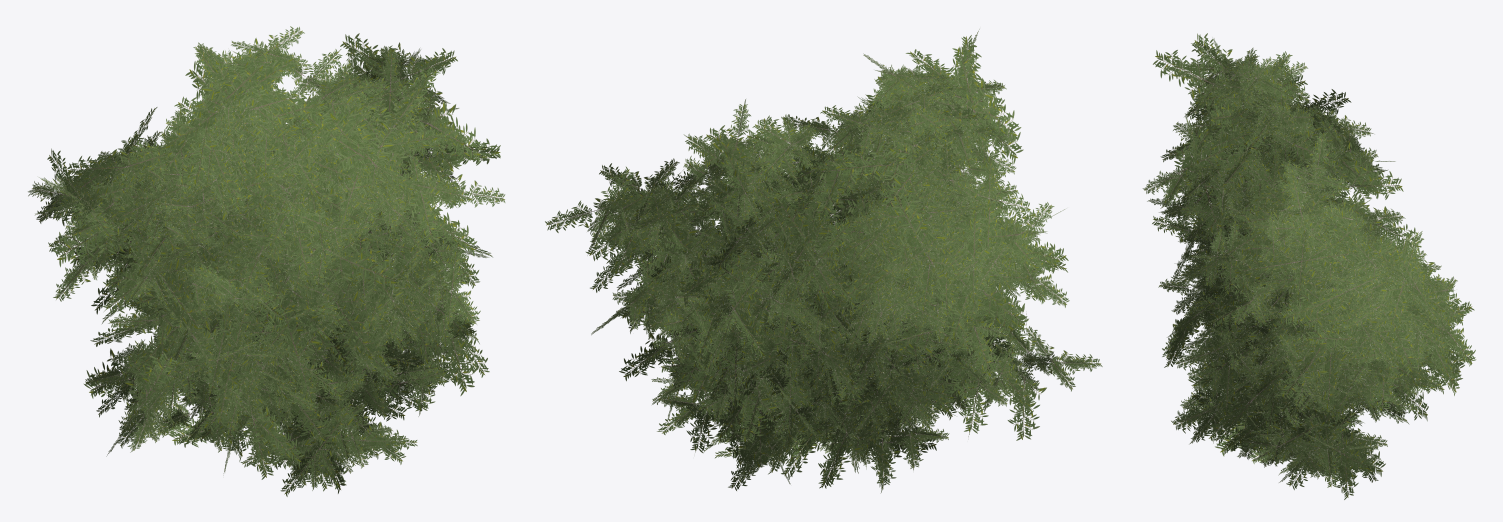
File: willow_leaf.glb
3 renders of one model, left to right at view 1: azimuth 30°, elevation 25°; view 2: azimuth 150°, elevation 25°; view 3: azimuth 270°, elevation 25°, orthographic. The views are drawn at different scales.
Visible parts, largest first — view 1: willow_a_l2, willow_a, willow_a_l1, willow_b_l1, willow_b, willow_b_l2; view 2: willow_a_l2, willow_a, willow_a_l1, willow_b, willow_b_l1, willow_b_l2; view 3: willow_a_l2, willow_a, willow_a_l1, willow_b_l2, willow_b, willow_b_l1.
Boxes of the visible parts, box(x1,y1,x2,y2) form: willow_a_l2: box(39, 33, 500, 473); willow_a: box(32, 26, 473, 452); willow_a_l1: box(28, 37, 472, 447); willow_b_l1: box(85, 46, 488, 496); willow_b: box(95, 52, 505, 490); willow_b_l2: box(83, 73, 477, 493); willow_a_l2: box(545, 29, 1068, 493); willow_a: box(568, 53, 1059, 479); willow_a_l1: box(587, 58, 1069, 490); willow_b: box(601, 104, 1092, 466); willow_b_l1: box(591, 99, 1102, 484); willow_b_l2: box(619, 115, 1046, 474); willow_a_l2: box(1152, 33, 1472, 499); willow_a: box(1142, 54, 1458, 474); willow_a_l1: box(1160, 47, 1447, 483); willow_b_l2: box(1162, 174, 1474, 481); willow_b: box(1180, 141, 1469, 473); willow_b_l1: box(1170, 132, 1476, 476).
Bounding box in the file's own units: 13.12 × 12.31 × 9.56.
1 material, 1 textured.
